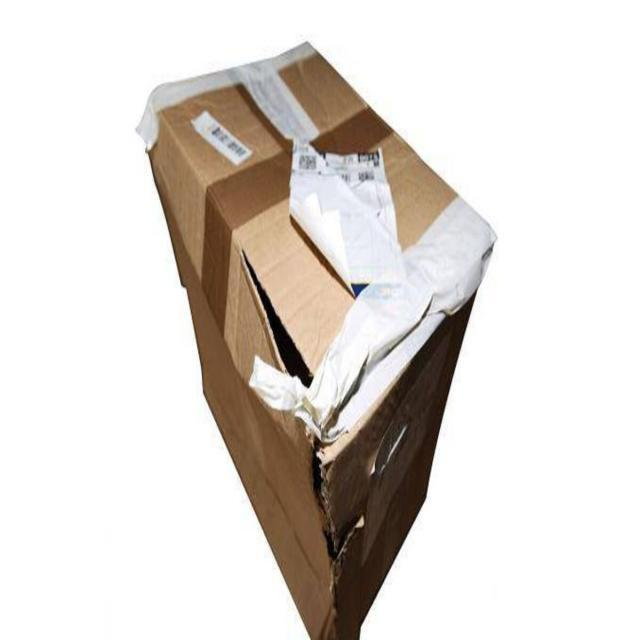hole: (240, 248, 332, 384)
